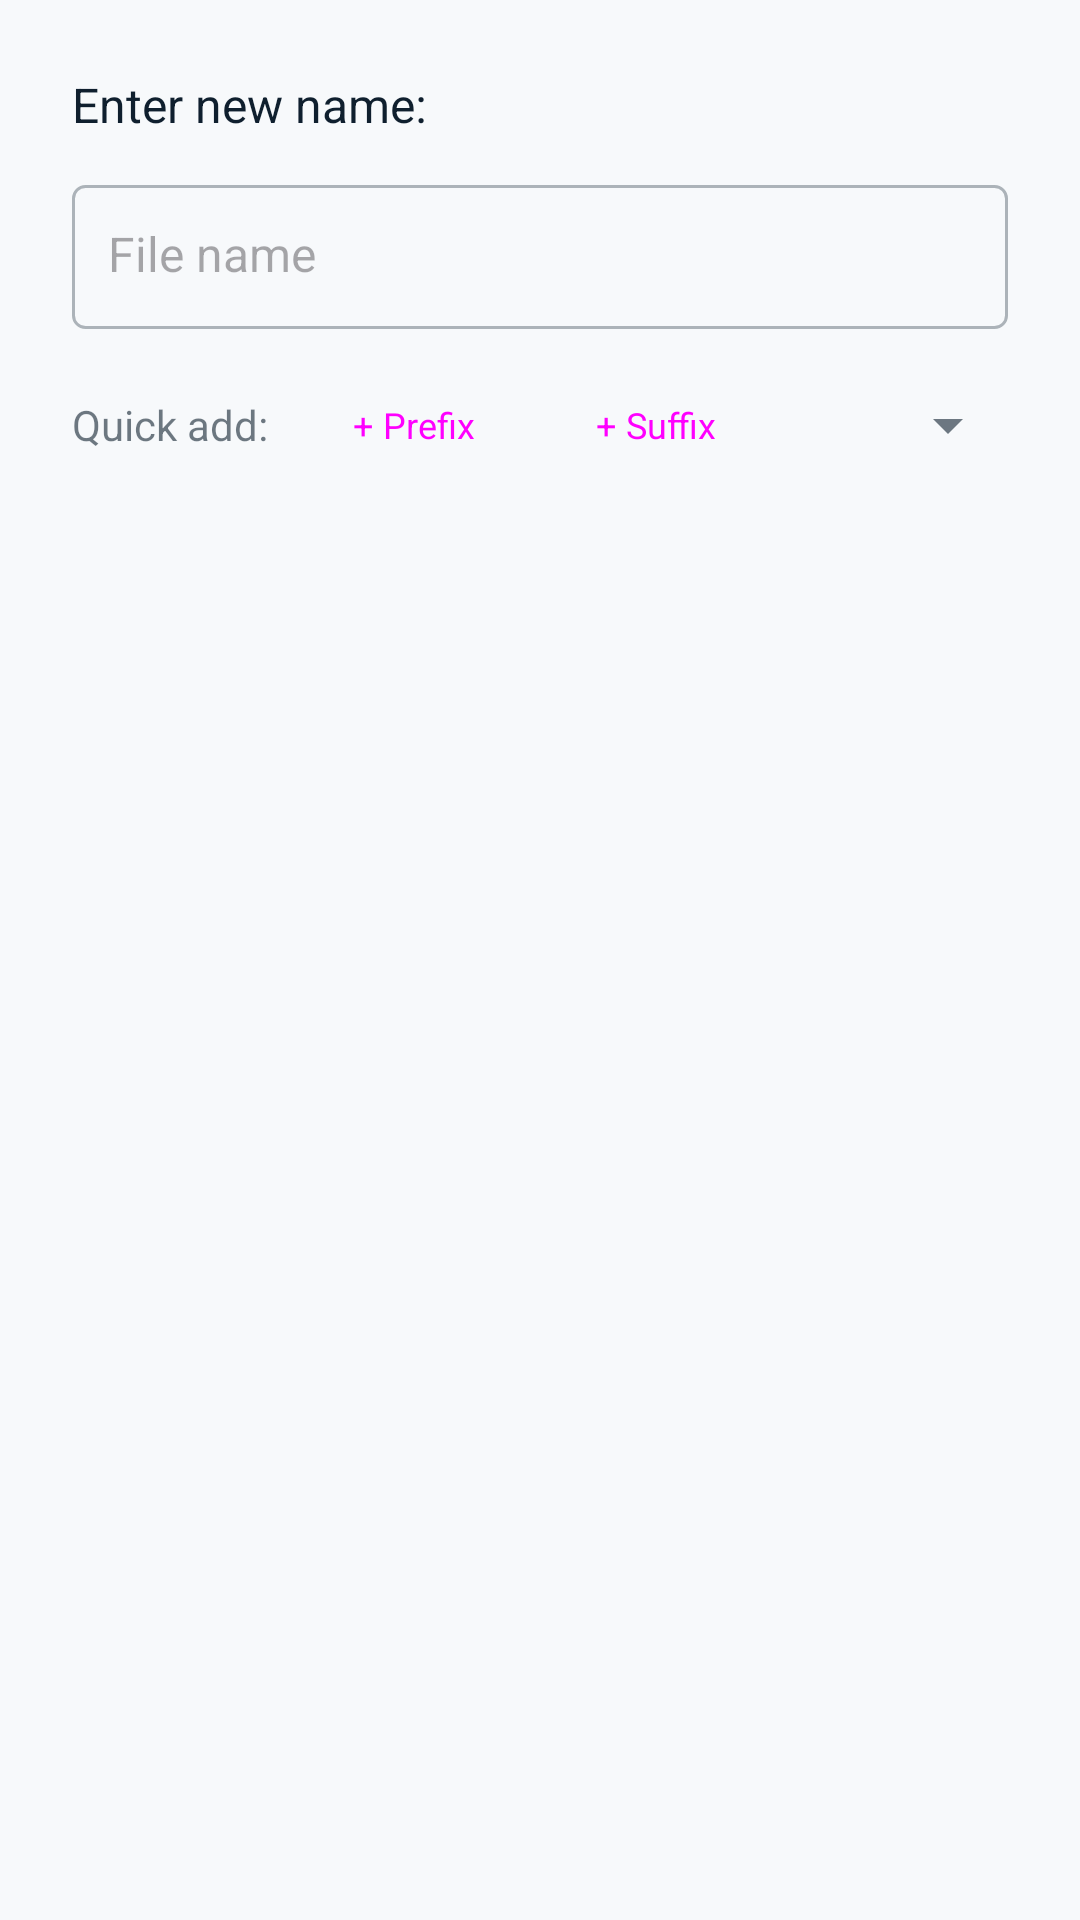

Point at icon controls on the screen. Image size 1080 x 1920, points as point (x, y).
Show suggestions: point (948, 426)
